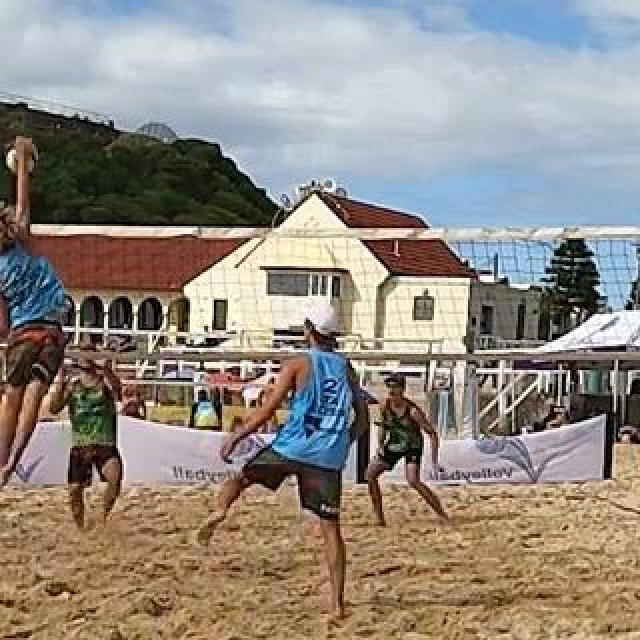volleyball: (7, 143, 37, 175)
